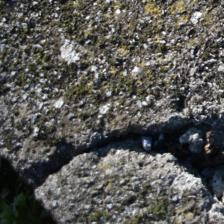Crack: (6, 56, 215, 156)
